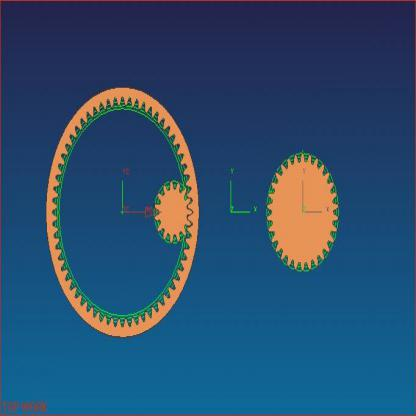FOD: (44, 82, 202, 339), (265, 150, 339, 274), (154, 180, 192, 242)
